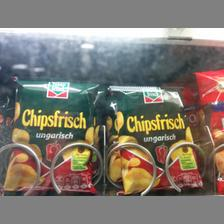Chips: (4, 76, 98, 191), (116, 82, 206, 194)
